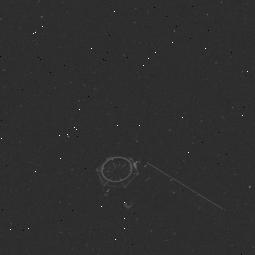earth_observation_sat_1: (94, 151, 163, 216)
